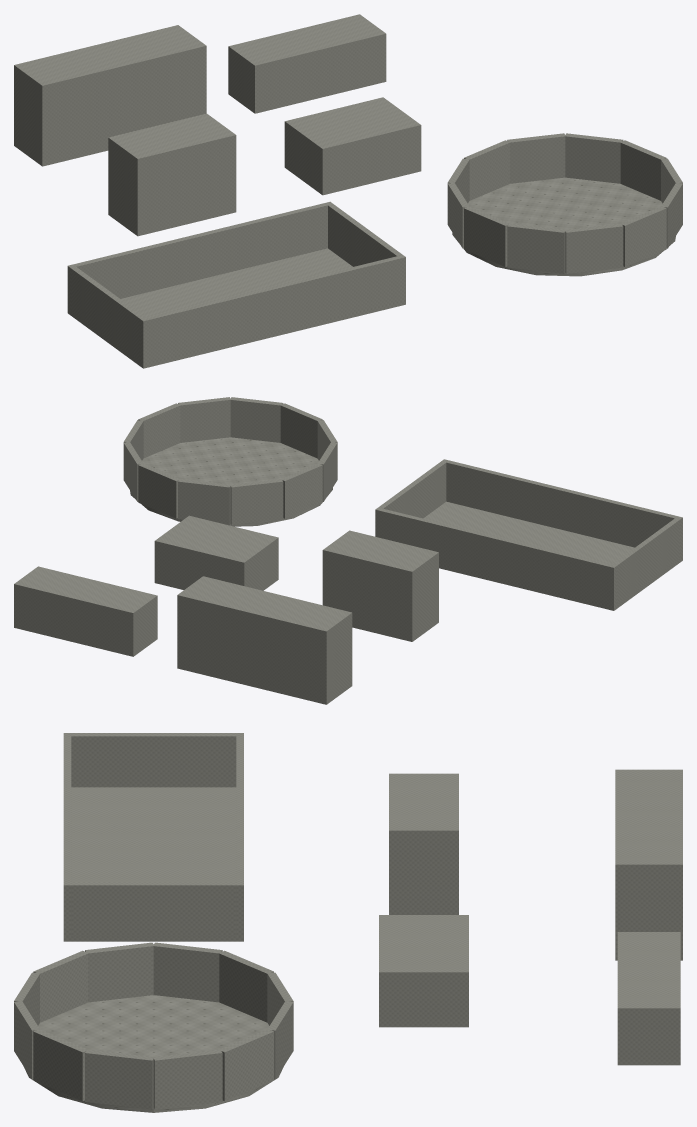
The model's file is PZ_CFW_99_SIMPLE_COLLISION_HELPERS.glb.
3 views of the same model, one above another, from view 1: azimuth 30°, elevation 25°; view 2: azimuth 150°, elevation 25°; view 3: azimuth 270°, elevation 25° (orthographic). The views are drawn at different scales.
Parts seen in each view (by area): view 1: UCX_CFW_UCX_BRIDGE, UCX_CFW_UCX_FILTER, UCX_CFW_02_BasinWall_0, UCX_CFW_UCX_MANIFOLD, UCX_CFW_02_BasinWall_1, UCX_CFW_UCX_PUMPS, UCX_CFW_RoundTank_Floor, UCX_CFW_01_BasinFloor, UCX_CFW_02_BasinWall_2, UCX_CFW_RoundRimSegment_7, UCX_CFW_RoundRimSegment_8, UCX_CFW_RoundRimSegment_1 (+10 smaller); view 2: UCX_CFW_UCX_BRIDGE, UCX_CFW_UCX_FILTER, UCX_CFW_02_BasinWall_1, UCX_CFW_UCX_MANIFOLD, UCX_CFW_02_BasinWall_0, UCX_CFW_UCX_PUMPS, UCX_CFW_RoundTank_Floor, UCX_CFW_01_BasinFloor, UCX_CFW_02_BasinWall_2, UCX_CFW_RoundRimSegment_4, UCX_CFW_RoundRimSegment_10, UCX_CFW_RoundRimSegment_9 (+9 smaller); view 3: UCX_CFW_01_BasinFloor, UCX_CFW_UCX_BRIDGE, UCX_CFW_RoundTank_Floor, UCX_CFW_UCX_PUMPS, UCX_CFW_UCX_FILTER, UCX_CFW_02_BasinWall_2, UCX_CFW_02_BasinWall_3, UCX_CFW_UCX_MANIFOLD, UCX_CFW_RoundRimSegment_0, UCX_CFW_RoundRimSegment_11, UCX_CFW_RoundRimSegment_5, UCX_CFW_RoundRimSegment_6 (+10 smaller).
Part boxes in pixels (x1,y1,x2,y2): UCX_CFW_UCX_BRIDGE: [14, 25, 206, 166]; UCX_CFW_UCX_FILTER: [108, 113, 236, 236]; UCX_CFW_02_BasinWall_0: [140, 255, 405, 364]; UCX_CFW_UCX_MANIFOLD: [228, 14, 386, 113]; UCX_CFW_02_BasinWall_1: [67, 201, 332, 310]; UCX_CFW_UCX_PUMPS: [284, 97, 421, 195]; UCX_CFW_RoundTank_Floor: [452, 177, 675, 276]; UCX_CFW_01_BasinFloor: [67, 248, 405, 368]; UCX_CFW_02_BasinWall_2: [70, 267, 145, 361]; UCX_CFW_RoundRimSegment_7: [507, 223, 565, 273]; UCX_CFW_RoundRimSegment_8: [565, 223, 623, 273]; UCX_CFW_RoundRimSegment_1: [565, 133, 623, 183]; UCX_CFW_UCX_BRIDGE: [177, 576, 352, 704]; UCX_CFW_UCX_FILTER: [322, 530, 438, 641]; UCX_CFW_02_BasinWall_1: [375, 507, 616, 606]; UCX_CFW_UCX_MANIFOLD: [14, 566, 157, 656]; UCX_CFW_02_BasinWall_0: [441, 459, 682, 558]; UCX_CFW_UCX_PUMPS: [154, 515, 278, 590]; UCX_CFW_RoundTank_Floor: [130, 437, 332, 526]; UCX_CFW_01_BasinFloor: [423, 501, 682, 610]; UCX_CFW_02_BasinWall_2: [612, 518, 679, 604]; UCX_CFW_RoundRimSegment_4: [230, 479, 283, 524]; UCX_CFW_RoundRimSegment_10: [178, 397, 230, 442]; UCX_CFW_RoundRimSegment_9: [230, 397, 283, 442]; UCX_CFW_01_BasinFloor: [63, 787, 243, 941]; UCX_CFW_UCX_BRIDGE: [615, 769, 682, 960]; UCX_CFW_RoundTank_Floor: [23, 995, 283, 1112]; UCX_CFW_UCX_PUMPS: [379, 915, 468, 1027]; UCX_CFW_UCX_FILTER: [389, 773, 458, 914]; UCX_CFW_02_BasinWall_2: [71, 733, 236, 787]; UCX_CFW_02_BasinWall_3: [71, 882, 236, 936]; UCX_CFW_UCX_MANIFOLD: [617, 932, 680, 1065]; UCX_CFW_RoundRimSegment_0: [153, 1049, 222, 1109]; UCX_CFW_RoundRimSegment_11: [85, 1049, 153, 1109]; UCX_CFW_RoundRimSegment_5: [153, 942, 222, 1002]; UCX_CFW_RoundRimSegment_6: [85, 942, 153, 1002].
Size of the model in its own units: 34.21 by 4.7 by 29.71.
Materials: 1 (1 with a texture image).
